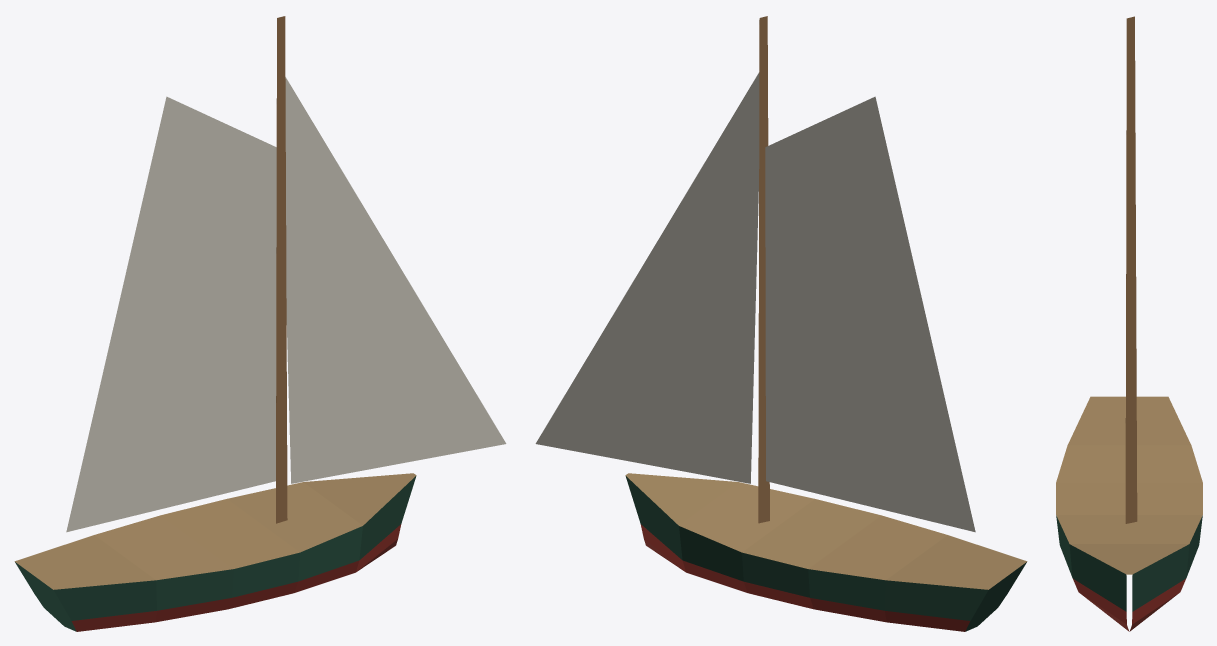
File: hull_usd_sloop_boat_lod.glb
3 views of the same model, side by side, from view 1: azimuth 30°, elevation 25°; view 2: azimuth 150°, elevation 25°; view 3: azimuth 270°, elevation 25° (orthographic).
Visible parts, largest first — view 1: lod; view 2: lod; view 3: lod.
Boxes of the visible parts, <box> form: lod: <box>14,16,506,631</box>; lod: <box>535,16,1027,631</box>; lod: <box>1056,16,1202,631</box>.
Bounding box in the file's own units: 9.3 × 10.83 × 2.5.
